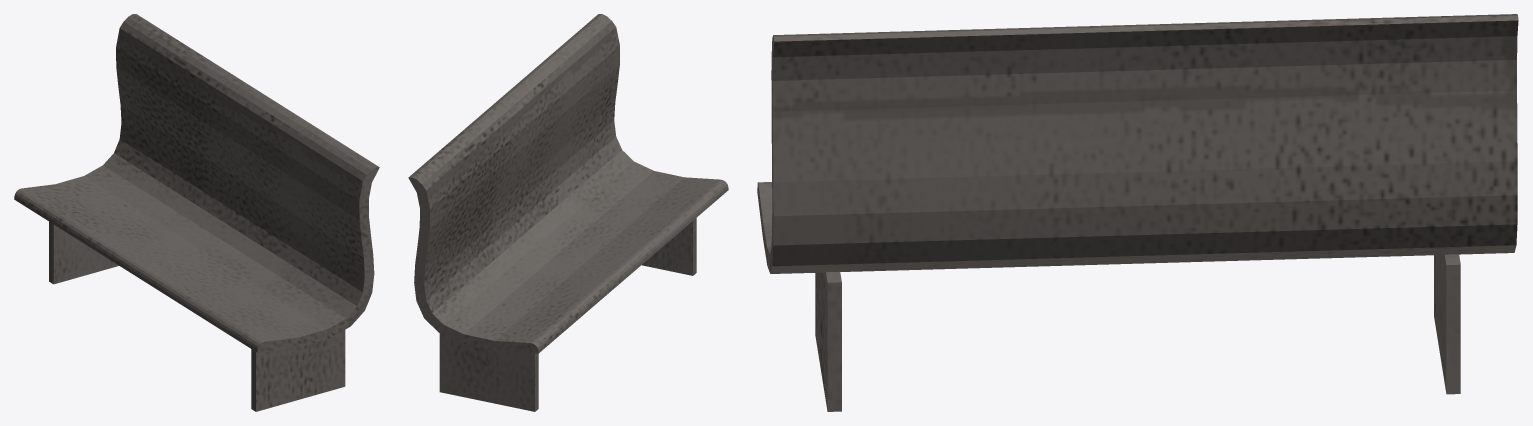
File: SM_bench.fbx
3 views of the same model, side by side, from view 1: azimuth 30°, elevation 25°; view 2: azimuth 150°, elevation 25°; view 3: azimuth 270°, elevation 25° (orthographic). The views are drawn at different scales.
Parts seen in each view (by area): view 1: SM_benchseat; view 2: SM_benchseat; view 3: SM_benchseat.
Boxes of the visible parts, x1,y1,x2,y2 form: SM_benchseat: (14,14,379,411); SM_benchseat: (408,14,728,411); SM_benchseat: (757,14,1518,411).
Bounding box in the file's own units: 43.5 × 61.81 × 110.
